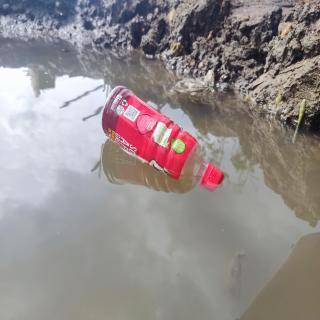bottle: (101, 83, 229, 195)
